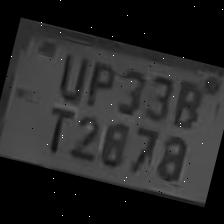2: (62, 107, 106, 163)
3: (108, 60, 150, 116), (137, 68, 178, 124)
7: (120, 118, 162, 176)
8: (92, 114, 133, 170), (150, 127, 190, 184)
B: (164, 74, 206, 131)
P: (79, 54, 121, 110)
T: (34, 100, 76, 156)
U: (48, 43, 92, 104)
